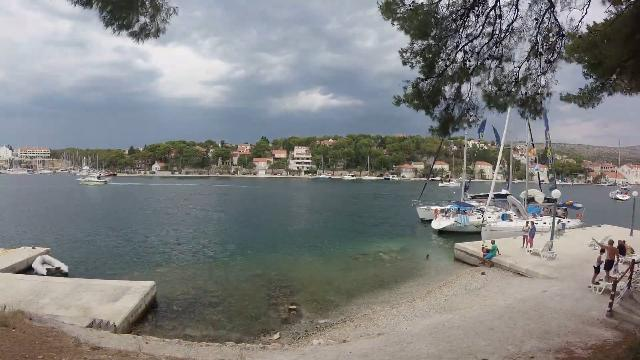ferry: (73, 169, 117, 189)
